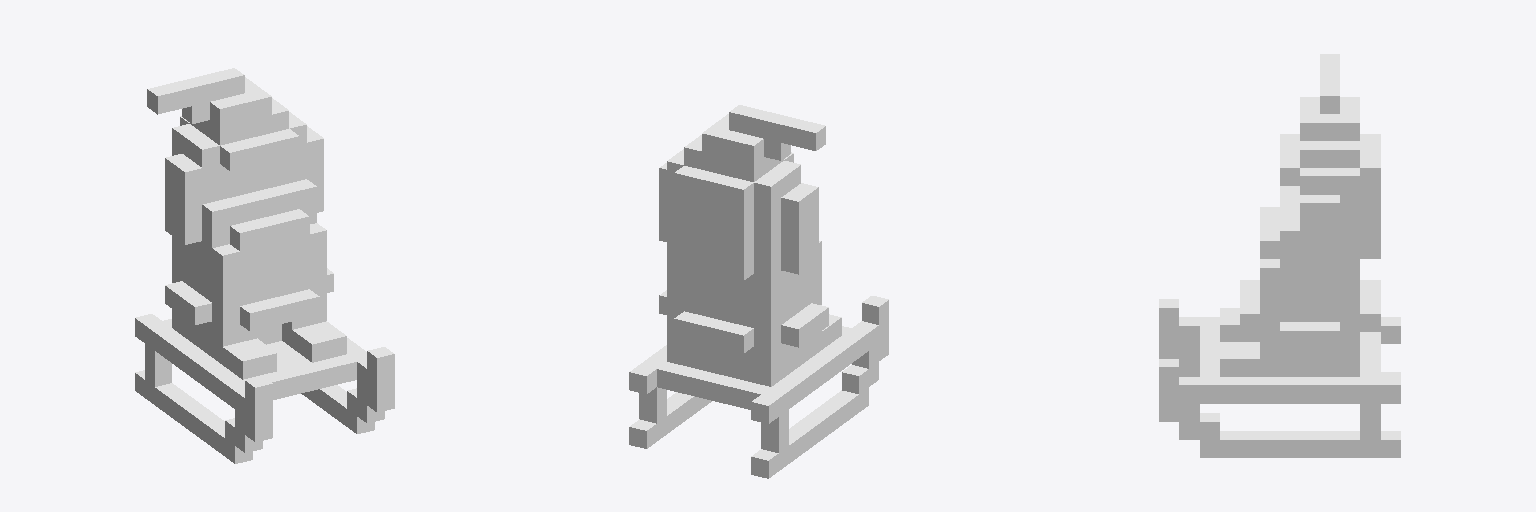
Rendered from santaOBJ.obj.
3 renders of one model, left to right at view 1: azimuth 30°, elevation 25°; view 2: azimuth 150°, elevation 25°; view 3: azimuth 270°, elevation 25°, orthographic.
Bounding box in the file's own units: 9 × 18 × 12.